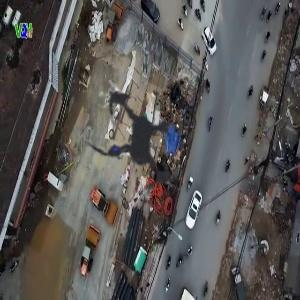drone: (33, 35, 246, 248)
